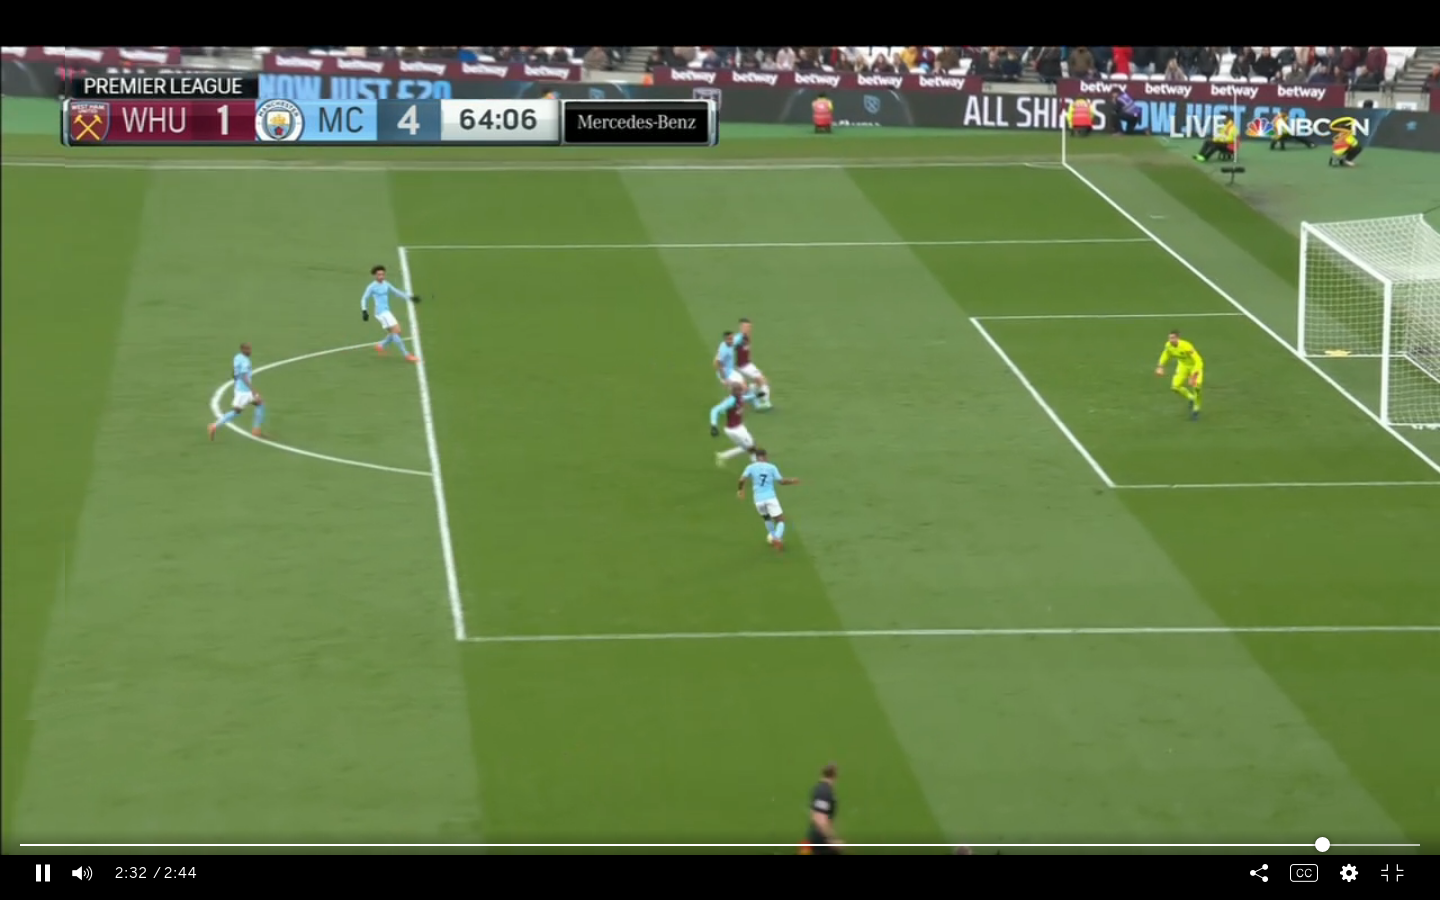referee: (793, 756, 855, 859)
soccer player: (201, 336, 276, 446), (732, 448, 802, 551), (358, 259, 425, 363), (1153, 322, 1210, 426), (702, 382, 767, 463), (736, 312, 772, 422), (713, 328, 744, 420)
